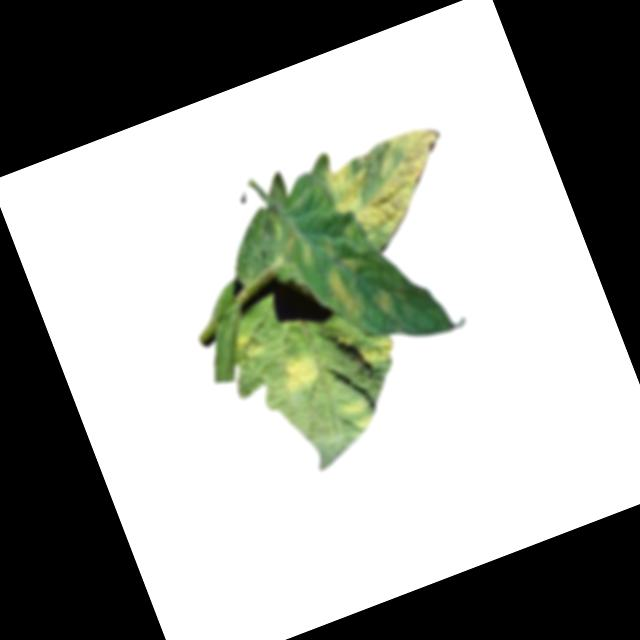Leaf_Mold: (318, 120, 467, 250), (324, 262, 367, 325), (276, 345, 329, 396), (338, 392, 379, 437), (358, 330, 399, 370), (228, 327, 267, 366), (370, 284, 398, 321)
